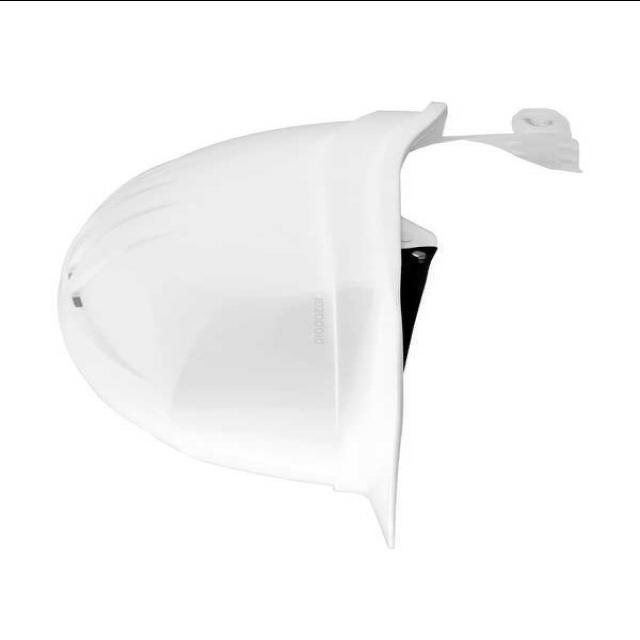safety_helmet: (55, 100, 448, 549)
